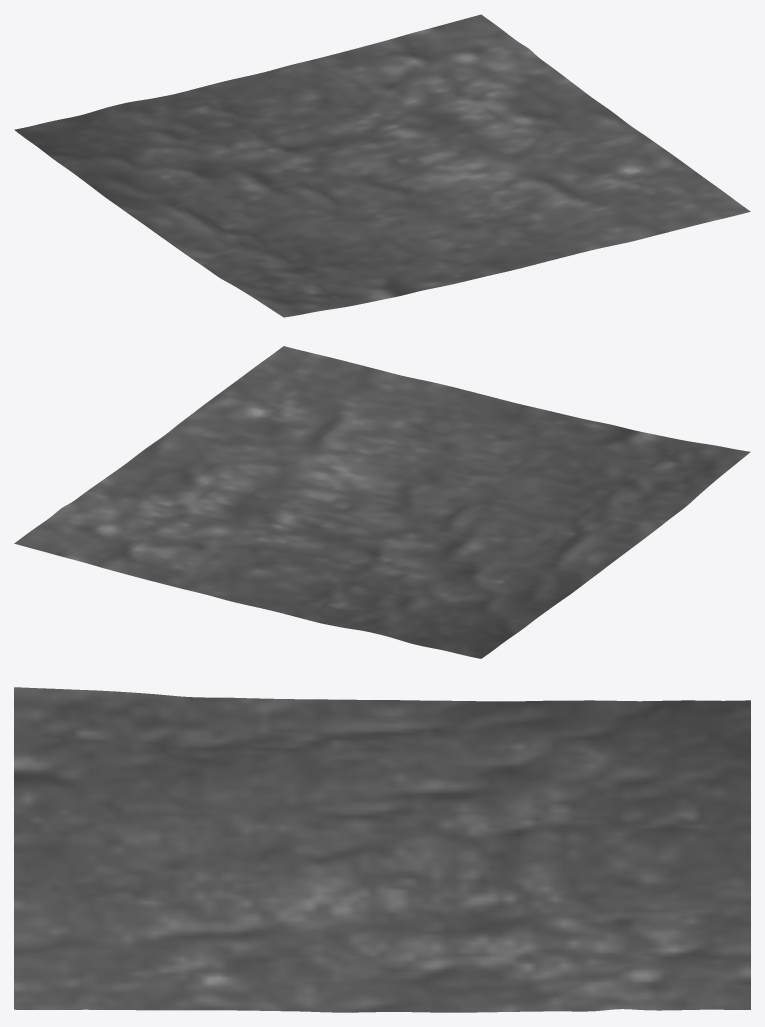
File: baseline_mesh.glb
The picture shows the model from 3 angles, top to bottom: view 1: azimuth 30°, elevation 25°; view 2: azimuth 150°, elevation 25°; view 3: azimuth 270°, elevation 25°; orthographic projection. The views are drawn at different scales.
Bounding box in the file's own units: 80 × 2.27 × 80.
Materials: 1 (1 with a texture image).
